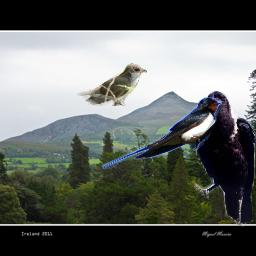Crow: (194, 90, 256, 227)
Cuckoo: (77, 63, 147, 106)
Swallow: (101, 97, 222, 169)
